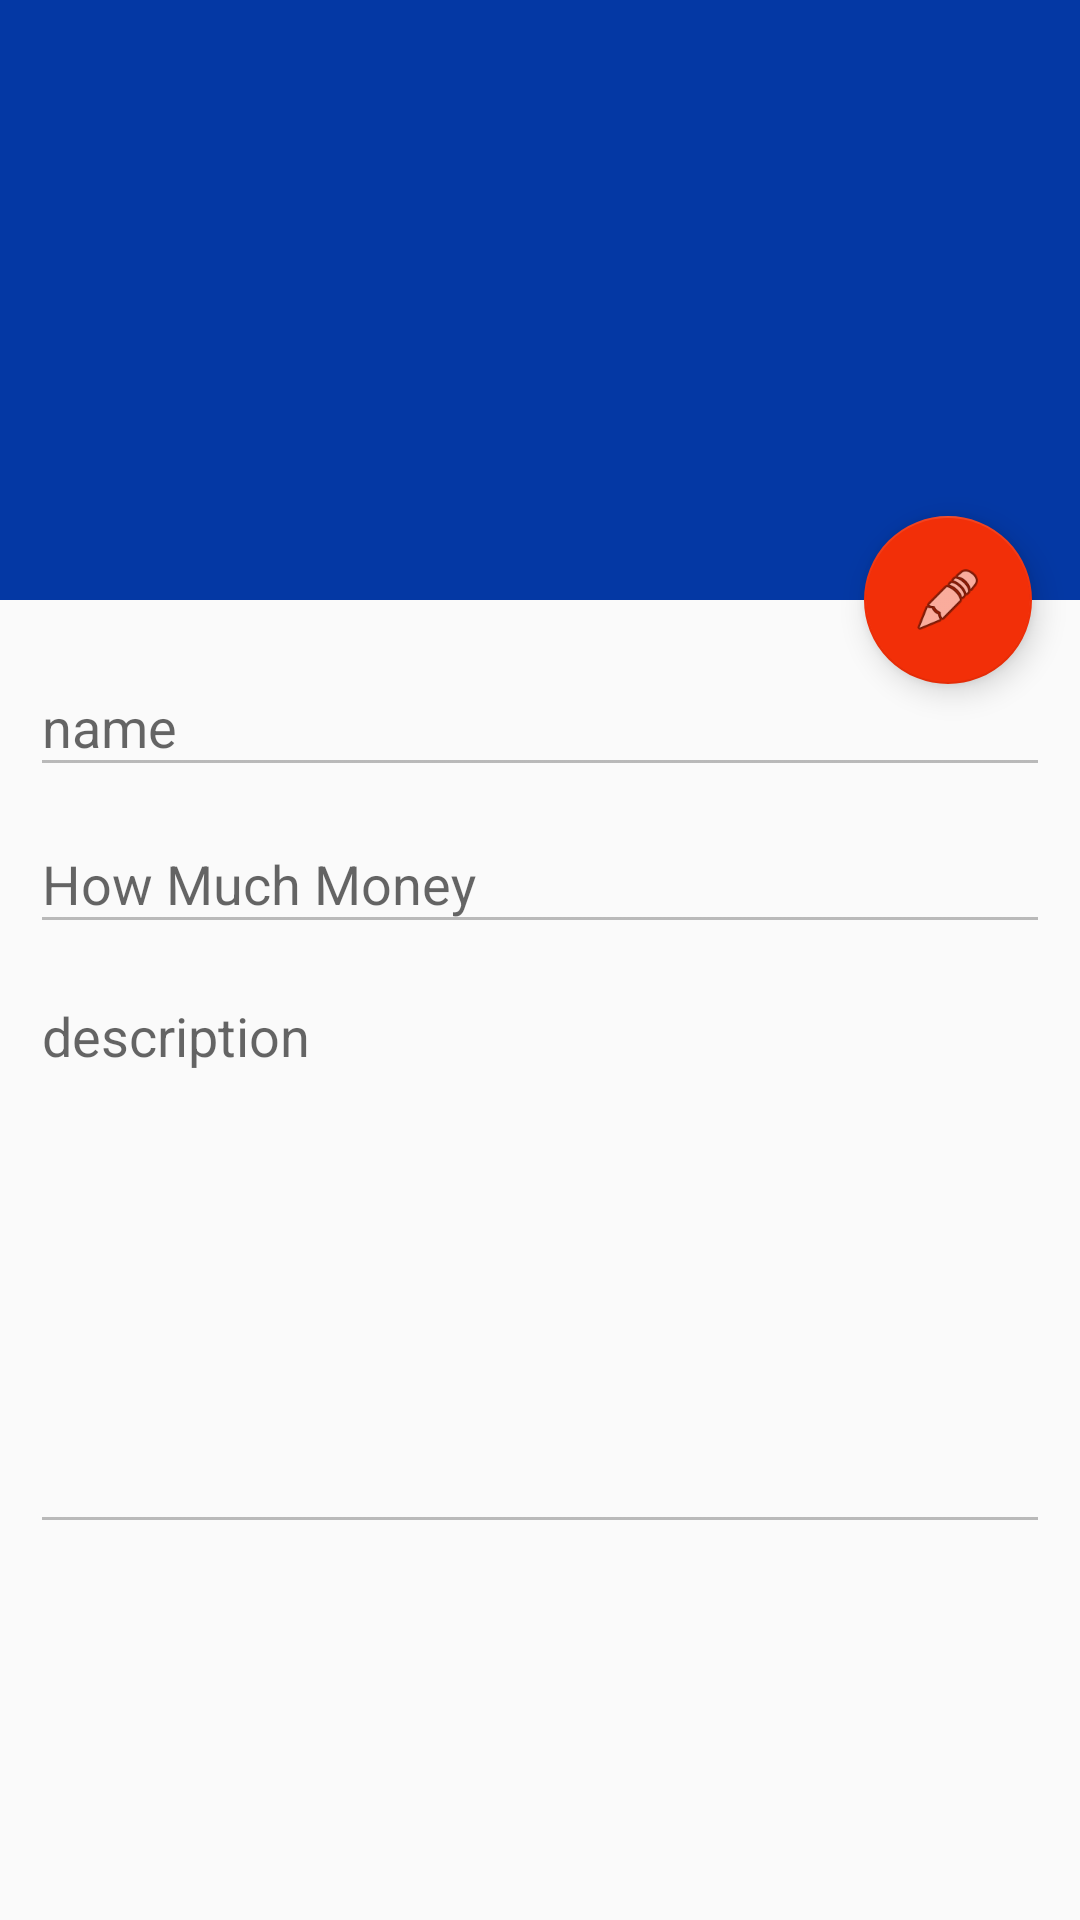

Named icons in this screenshot (1080x1920) and their centers, [x,y]:
edit: [948,600]
